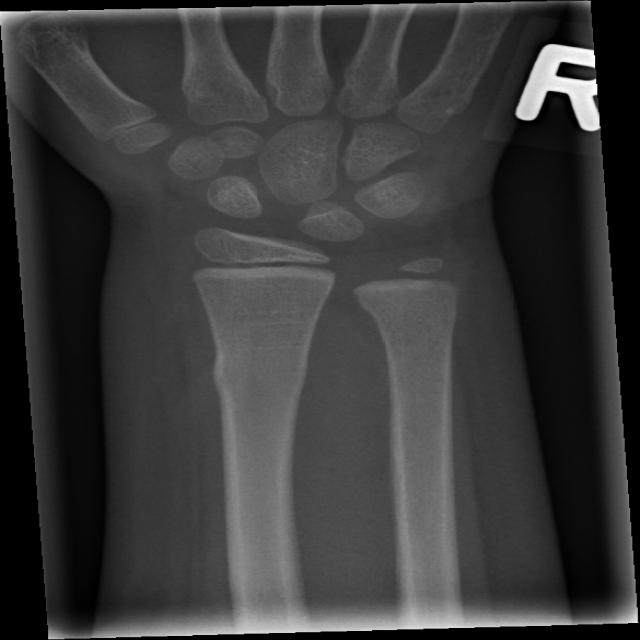radius fracture: (181, 316, 346, 494)
